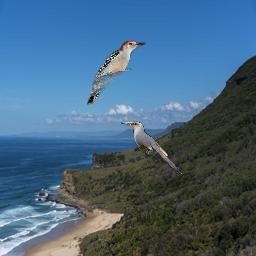Cuckoo: (121, 121, 182, 175)
Woodpecker: (87, 40, 146, 105)
